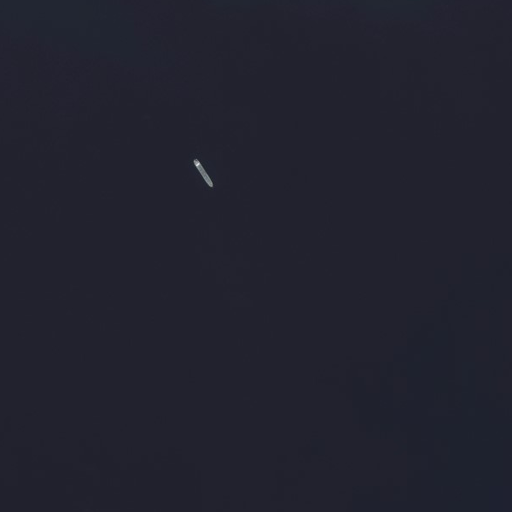ship: (190, 155, 216, 192)
